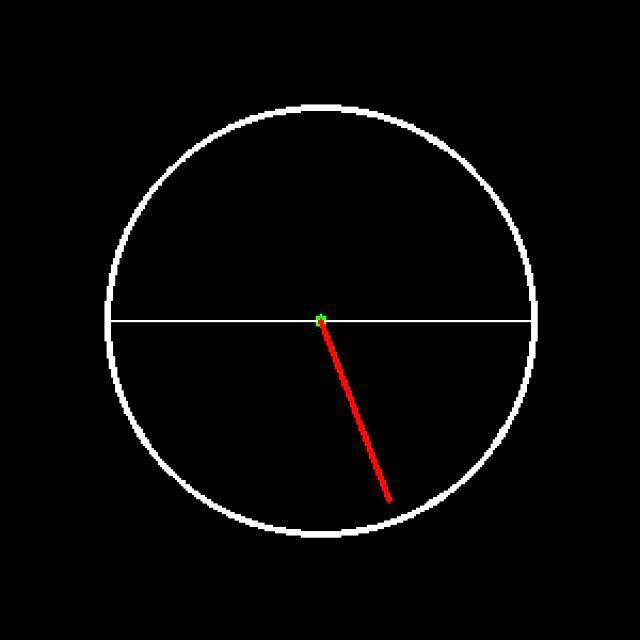Needle_Tip: (367, 464, 408, 510)
Needle_base: (284, 298, 357, 360)
